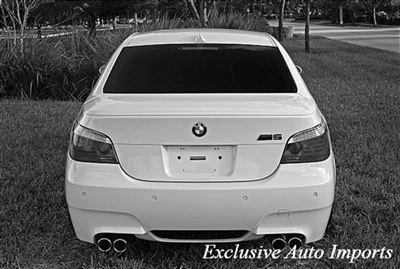car: (68, 30, 336, 253)
